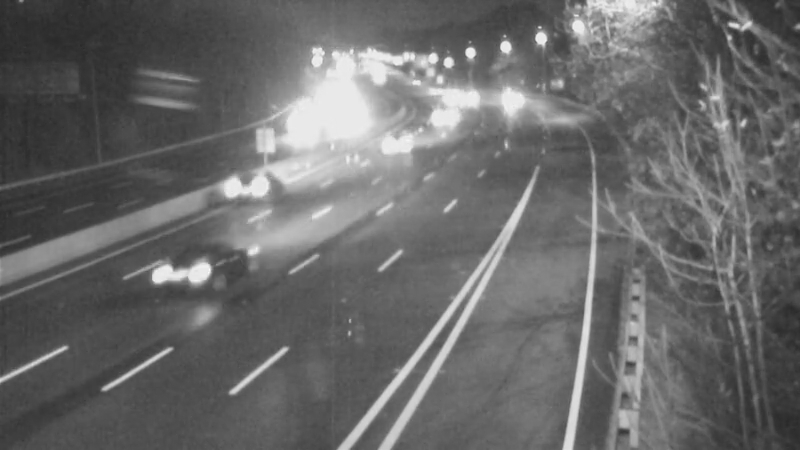vehicle: (206, 142, 286, 222), (140, 237, 220, 317), (486, 70, 536, 120), (427, 66, 477, 116), (441, 72, 491, 122), (427, 88, 477, 138), (376, 117, 426, 167), (267, 102, 317, 152)
